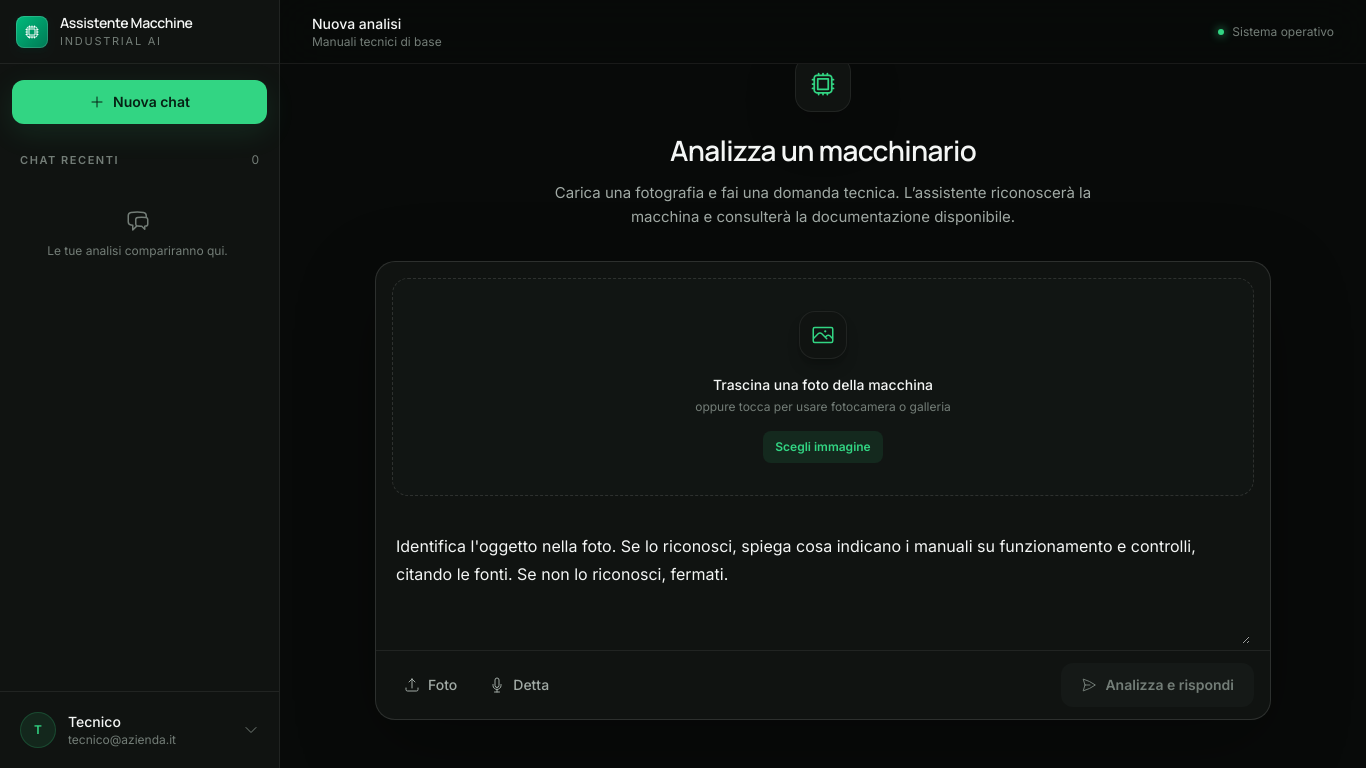
Test case: dettatura della domanda › registra, trascrive sul backend e sostituisce la domanda predefinita
The width and height of the screenshot is (1366, 768).
(page scrolled)
Click the button with aria-label "Detta la domanda" at [519, 685], box 477,663 -> 561,707
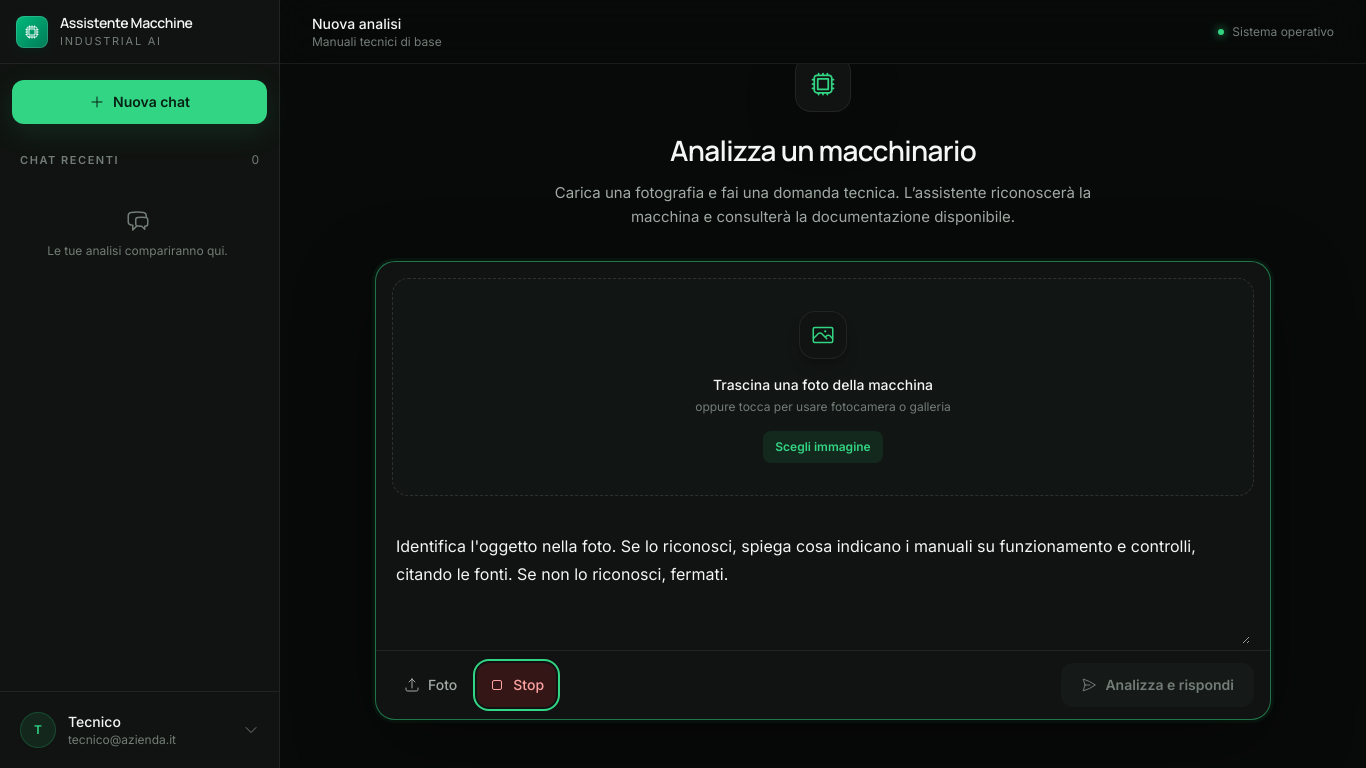
Click the button with aria-label "Interrompi dettatura" at [517, 685], box 477,663 -> 556,707
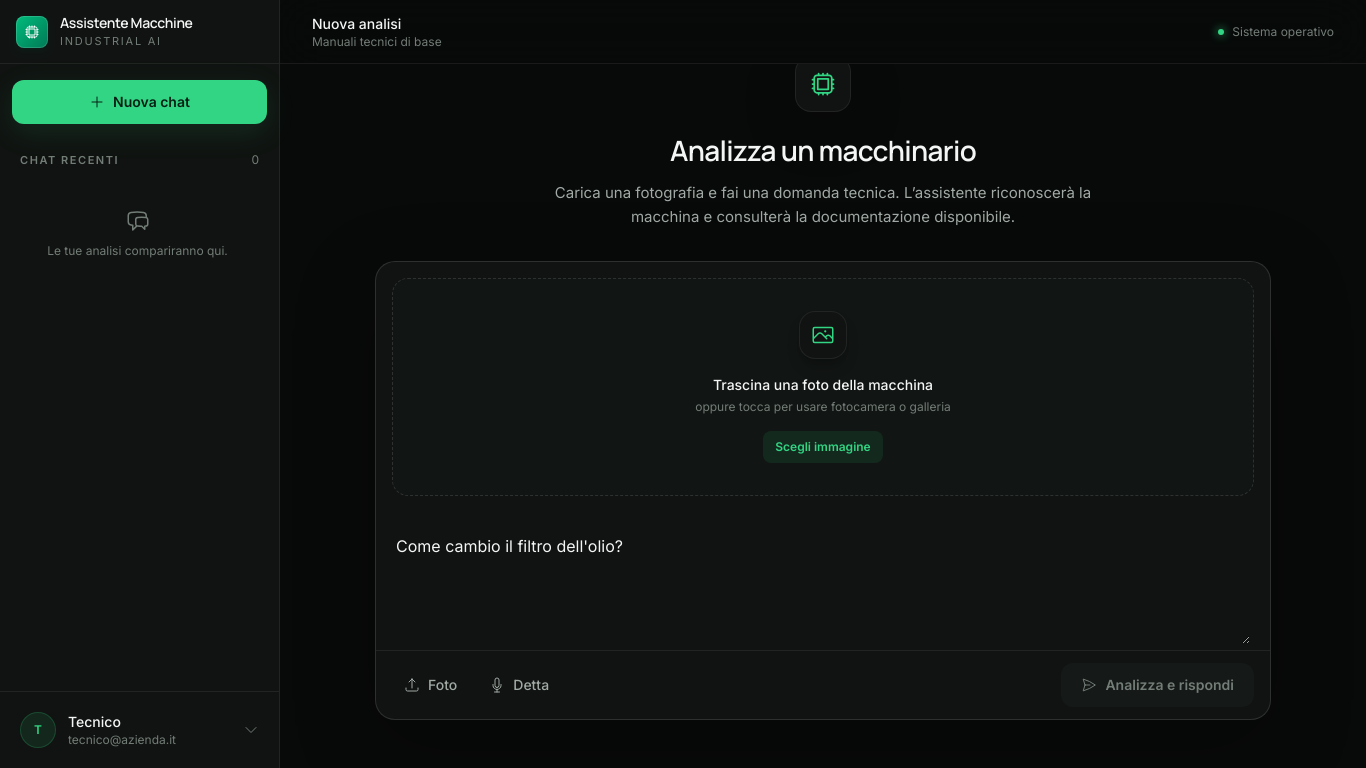
Check: the text box named "Domanda tecnica" holds "Come cambio il filtro dell'olio?", box 396,516 -> 1250,644
